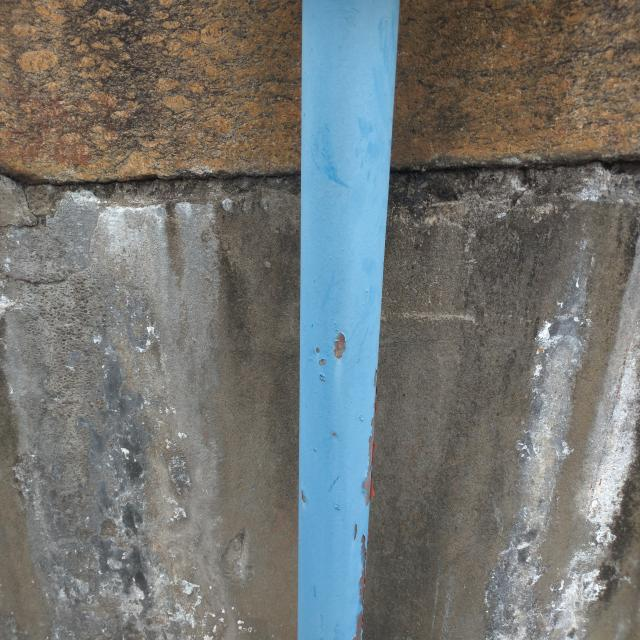gas: (294, 2, 397, 635)
